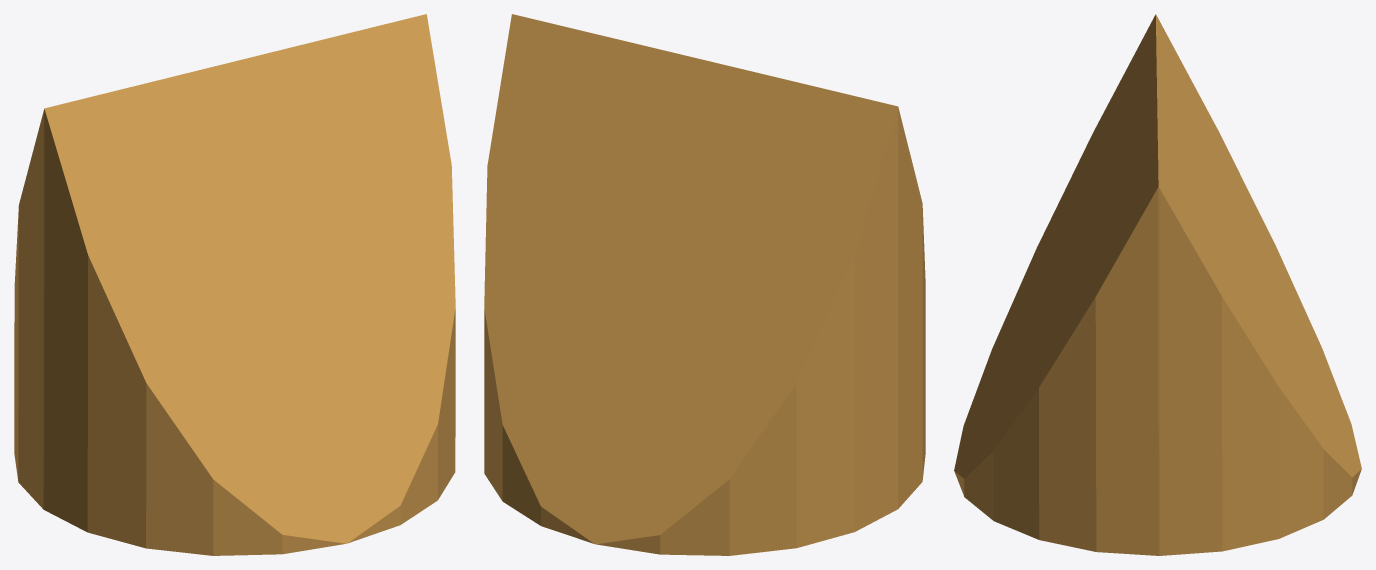
The model's file is tap.glb.
3 views of the same model, side by side, from view 1: azimuth 30°, elevation 25°; view 2: azimuth 150°, elevation 25°; view 3: azimuth 270°, elevation 25° (orthographic). The views are drawn at different scales.
Parts seen in each view (by area): view 1: Mesh_Mesh_head_geo.001_lambert2SG.001; view 2: Mesh_Mesh_head_geo.001_lambert2SG.001; view 3: Mesh_Mesh_head_geo.001_lambert2SG.001.
Boxes of the visible parts, x1,y1,x2,y2 form: Mesh_Mesh_head_geo.001_lambert2SG.001: (14,14,455,555); Mesh_Mesh_head_geo.001_lambert2SG.001: (484,14,925,555); Mesh_Mesh_head_geo.001_lambert2SG.001: (954,14,1361,555).
Size of the model in its own units: 0.3444 by 0.3446 by 0.3441.
